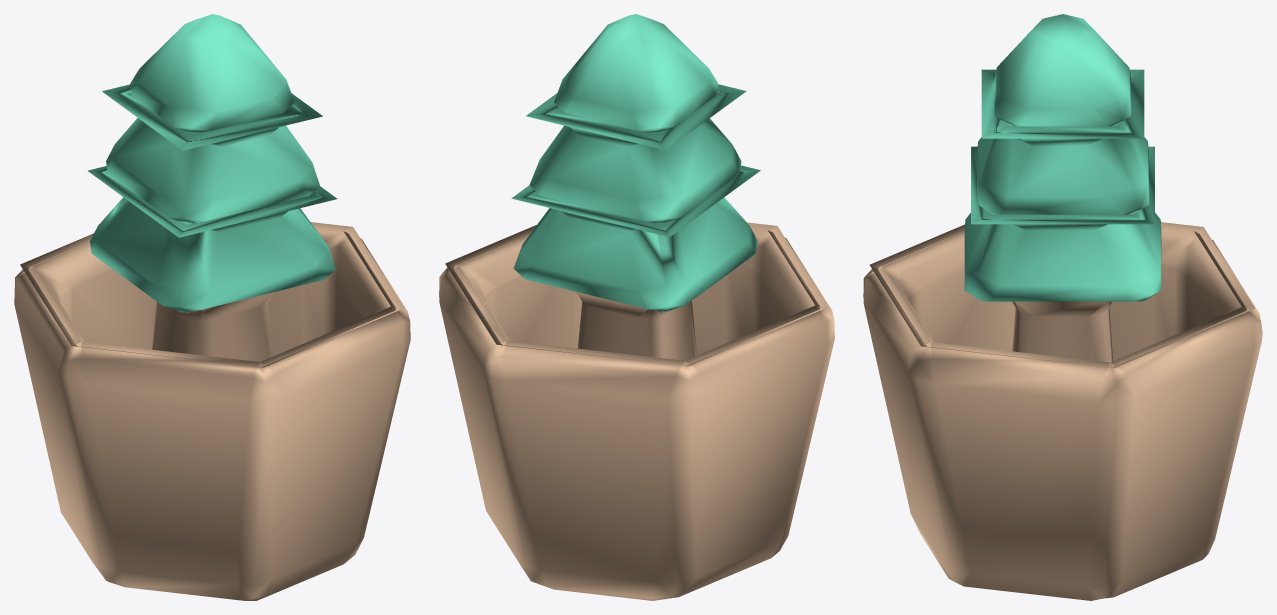
Rendered from smallPlant.glb.
The picture shows the model from 3 angles, left to right: view 1: azimuth 30°, elevation 25°; view 2: azimuth 150°, elevation 25°; view 3: azimuth 270°, elevation 25°; orthographic projection.
Parts seen in each view (by area): view 1: smallPlant_plantSmall1(Clone); view 2: smallPlant_plantSmall1(Clone); view 3: smallPlant_plantSmall1(Clone).
Part boxes in pixels (left/top/right/bottom): smallPlant_plantSmall1(Clone): left=14, top=14, right=410, bottom=600; smallPlant_plantSmall1(Clone): left=439, top=14, right=834, bottom=600; smallPlant_plantSmall1(Clone): left=863, top=14, right=1262, bottom=600.
Size of the model in its own units: 0.2501 by 0.3702 by 0.2494.
